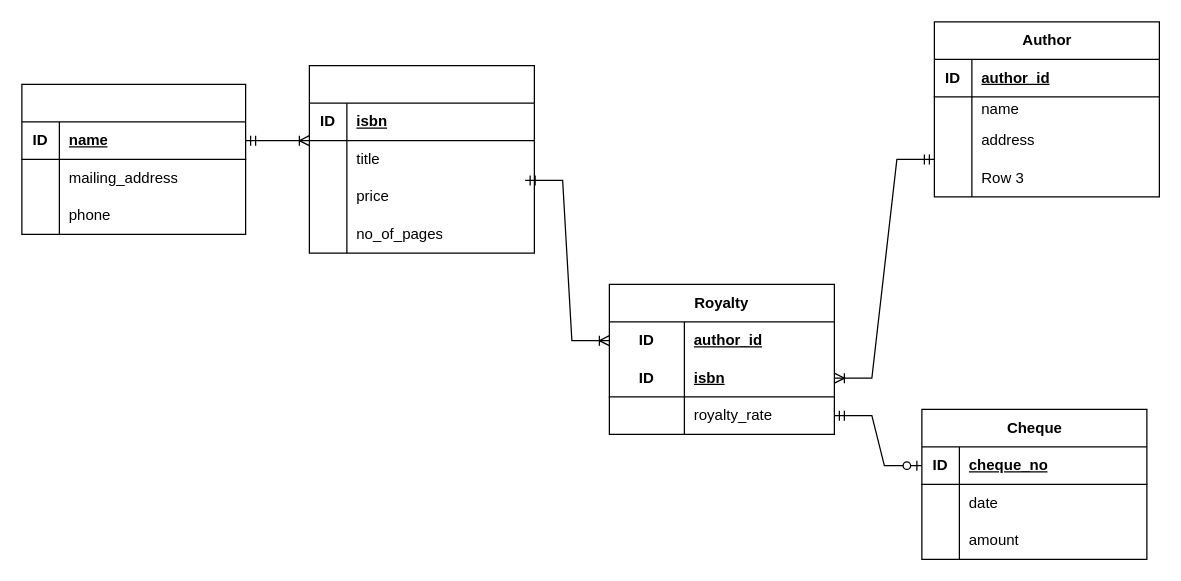
The diagram is 1181 pixels wide and 581 high, and some of its shapes have lost their labels. The shapes that lost their labels are listed below. From the top down, each one's box as (x1, y1, x2, y2) in pixels, then its label:
(21, 83, 246, 234): Publisher
(308, 64, 534, 253): Book
